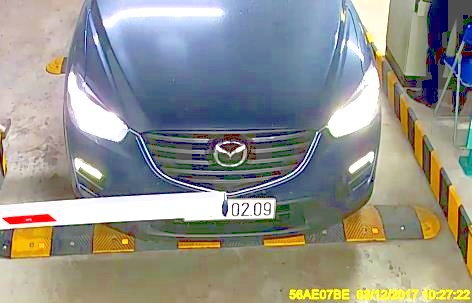plate: (180, 187, 278, 224)
